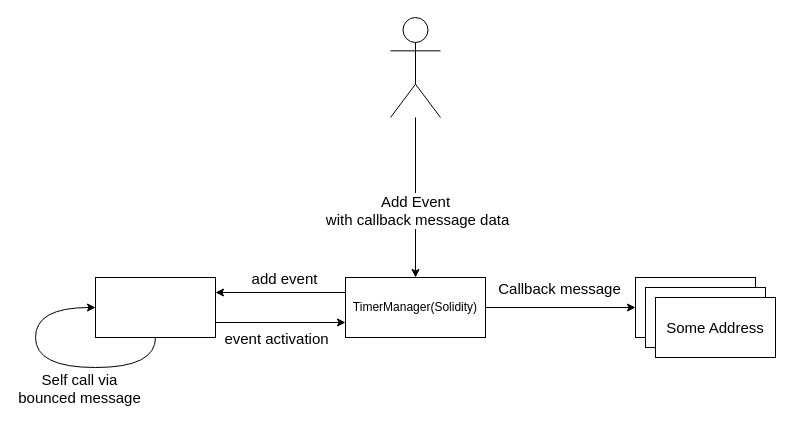
The diagram is 793 pixels wide and 423 high, and some of its shapes have lost their labels. The box of each missing label's shape, as (x1, y1, x2, y2) in pixels:
Timer(FunC): (94, 276, 216, 338)
User/Contract: (390, 16, 440, 118)
